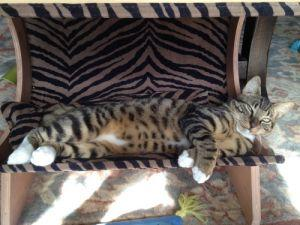bengal: (230, 74, 298, 143)
